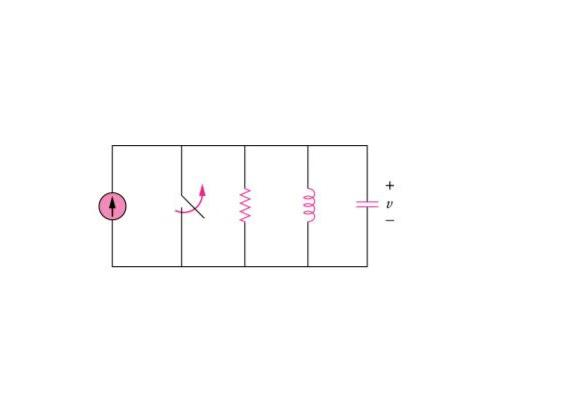resistor: (226, 171, 259, 230)
